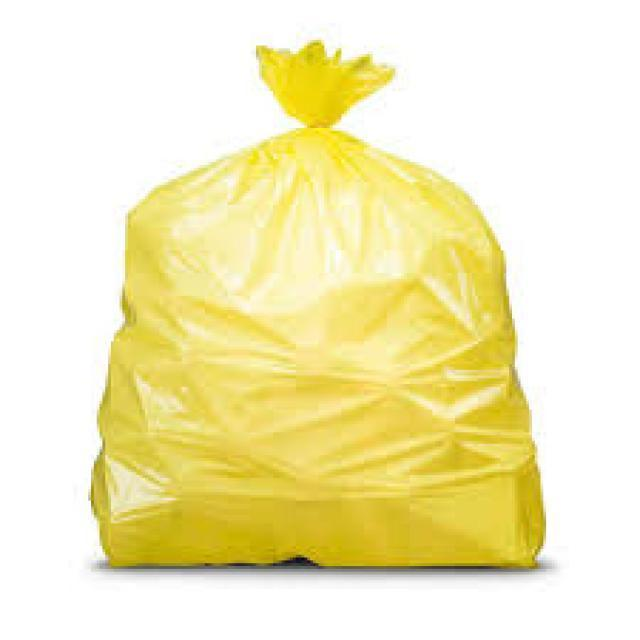waste: (87, 37, 558, 577)
